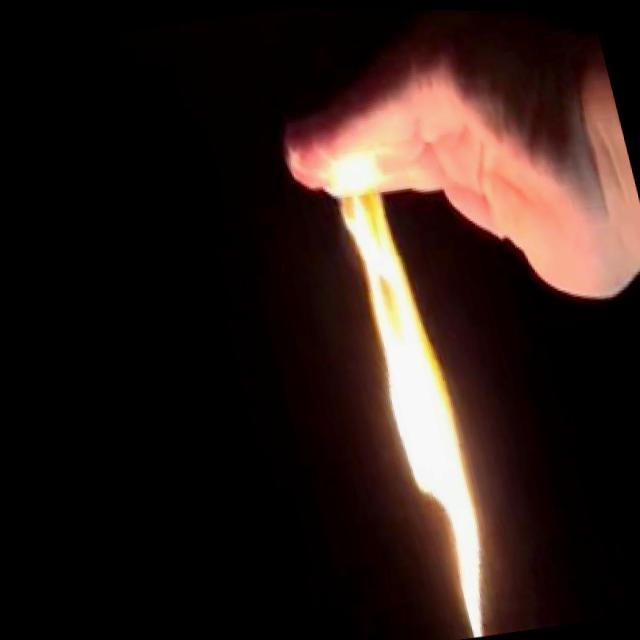helmet: (315, 121, 519, 621)
